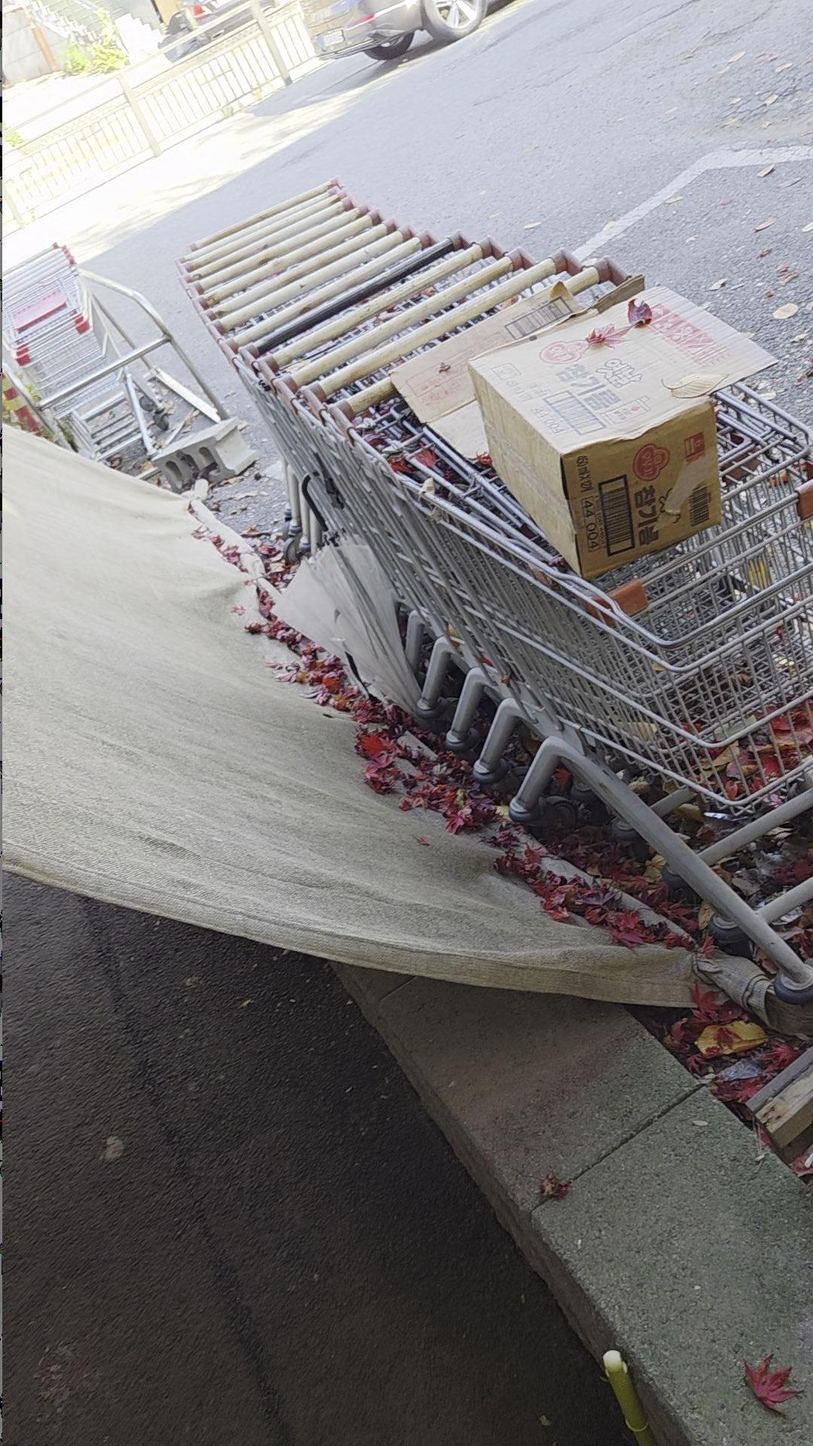combined_cart: (190, 176, 812, 1028), (0, 249, 232, 482)
